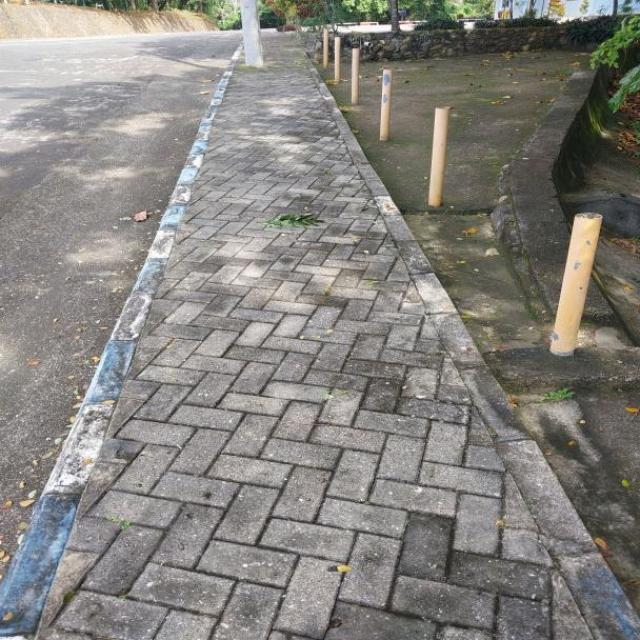barrier ahead at: (543, 202, 610, 356), (420, 99, 455, 217), (371, 67, 397, 147)
